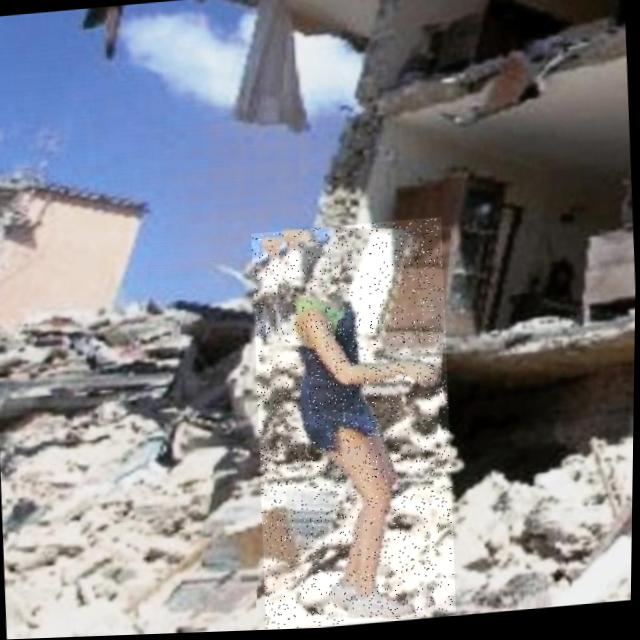Person in Rubble: (247, 219, 462, 633)
